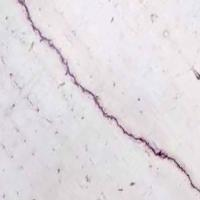crack: (17, 0, 199, 191)
